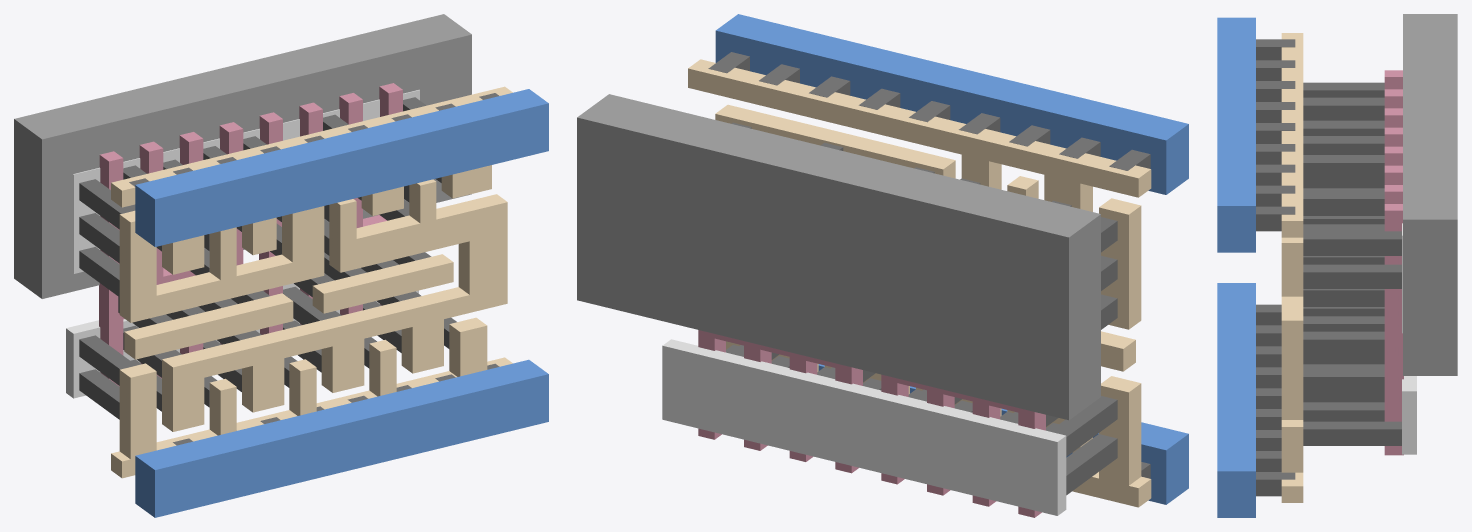
Rendered from sky130_fd_sc_hd__nor2_4.gds.gltf.
3 renders of one model, left to right at view 1: azimuth 30°, elevation 25°; view 2: azimuth 150°, elevation 25°; view 3: azimuth 270°, elevation 25°, orthographic. The views are drawn at different scales.
Visible parts, largest first — view 1: sky130_fd_sc_hd__nor2_4_li1, sky130_fd_sc_hd__nor2_4_met1, sky130_fd_sc_hd__nor2_4_nwell, sky130_fd_sc_hd__nor2_4_licon, sky130_fd_sc_hd__nor2_4_poly, sky130_fd_sc_hd__nor2_4_diff, sky130_fd_sc_hd__nor2_4_mcon; view 2: sky130_fd_sc_hd__nor2_4_nwell, sky130_fd_sc_hd__nor2_4_diff, sky130_fd_sc_hd__nor2_4_li1, sky130_fd_sc_hd__nor2_4_met1, sky130_fd_sc_hd__nor2_4_licon, sky130_fd_sc_hd__nor2_4_poly, sky130_fd_sc_hd__nor2_4_mcon; view 3: sky130_fd_sc_hd__nor2_4_licon, sky130_fd_sc_hd__nor2_4_nwell, sky130_fd_sc_hd__nor2_4_met1, sky130_fd_sc_hd__nor2_4_mcon, sky130_fd_sc_hd__nor2_4_li1, sky130_fd_sc_hd__nor2_4_poly, sky130_fd_sc_hd__nor2_4_diff.
Part boxes in pixels (<box>): sky130_fd_sc_hd__nor2_4_li1: <box>111,86,512,478</box>; sky130_fd_sc_hd__nor2_4_met1: <box>135,89,548,517</box>; sky130_fd_sc_hd__nor2_4_nwell: <box>14,14,471,298</box>; sky130_fd_sc_hd__nor2_4_licon: <box>79,97,456,419</box>; sky130_fd_sc_hd__nor2_4_poly: <box>99,83,402,386</box>; sky130_fd_sc_hd__nor2_4_diff: <box>66,89,419,398</box>; sky130_fd_sc_hd__nor2_4_mcon: <box>129,93,499,445</box>; sky130_fd_sc_hd__nor2_4_nwell: <box>577,94,1100,420</box>; sky130_fd_sc_hd__nor2_4_diff: <box>662,339,1066,515</box>; sky130_fd_sc_hd__nor2_4_li1: <box>688,59,1151,507</box>; sky130_fd_sc_hd__nor2_4_met1: <box>715,14,1188,504</box>; sky130_fd_sc_hd__nor2_4_licon: <box>726,122,1117,495</box>; sky130_fd_sc_hd__nor2_4_poly: <box>698,330,1045,517</box>; sky130_fd_sc_hd__nor2_4_mcon: <box>708,52,1150,478</box>; sky130_fd_sc_hd__nor2_4_licon: <box>1303,82,1401,445</box>; sky130_fd_sc_hd__nor2_4_nwell: <box>1403,14,1457,375</box>; sky130_fd_sc_hd__nor2_4_met1: <box>1217,17,1255,517</box>; sky130_fd_sc_hd__nor2_4_mcon: <box>1256,39,1295,496</box>; sky130_fd_sc_hd__nor2_4_li1: <box>1281,33,1303,502</box>; sky130_fd_sc_hd__nor2_4_poly: <box>1384,70,1403,455</box>; sky130_fd_sc_hd__nor2_4_diff: <box>1402,223,1416,454</box>.
Bounding box in the file's own units: 4.52 × 3.2 × 2.24.
